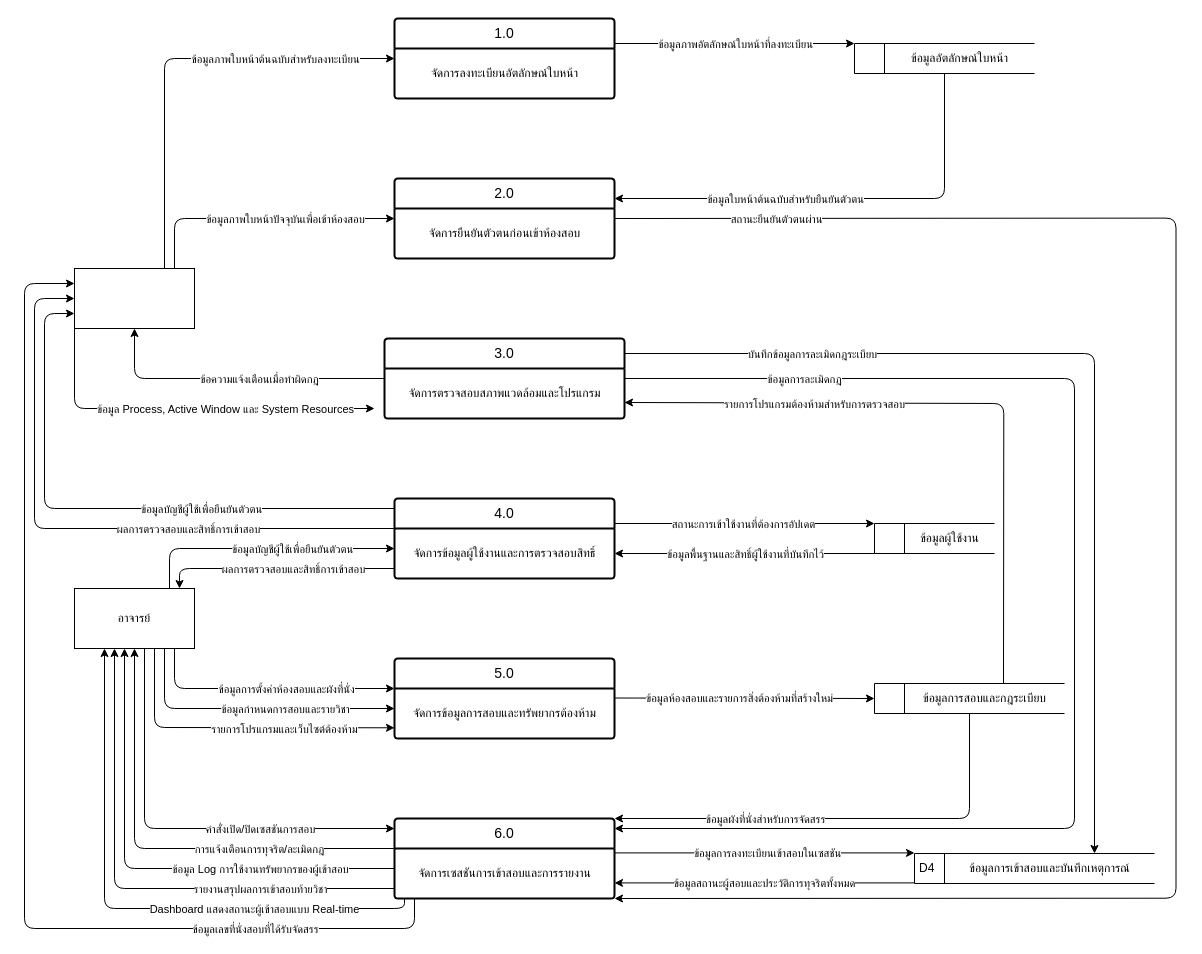
The diagram is 1202 pixels wide and 954 high, and some of its shapes have lost their labels. Each missing label, with the box of its shape:
D1: (874, 522, 994, 554)
D2: (874, 682, 1064, 714)
D3: (854, 42, 1034, 74)
นักศึกษา: (74, 268, 194, 328)
